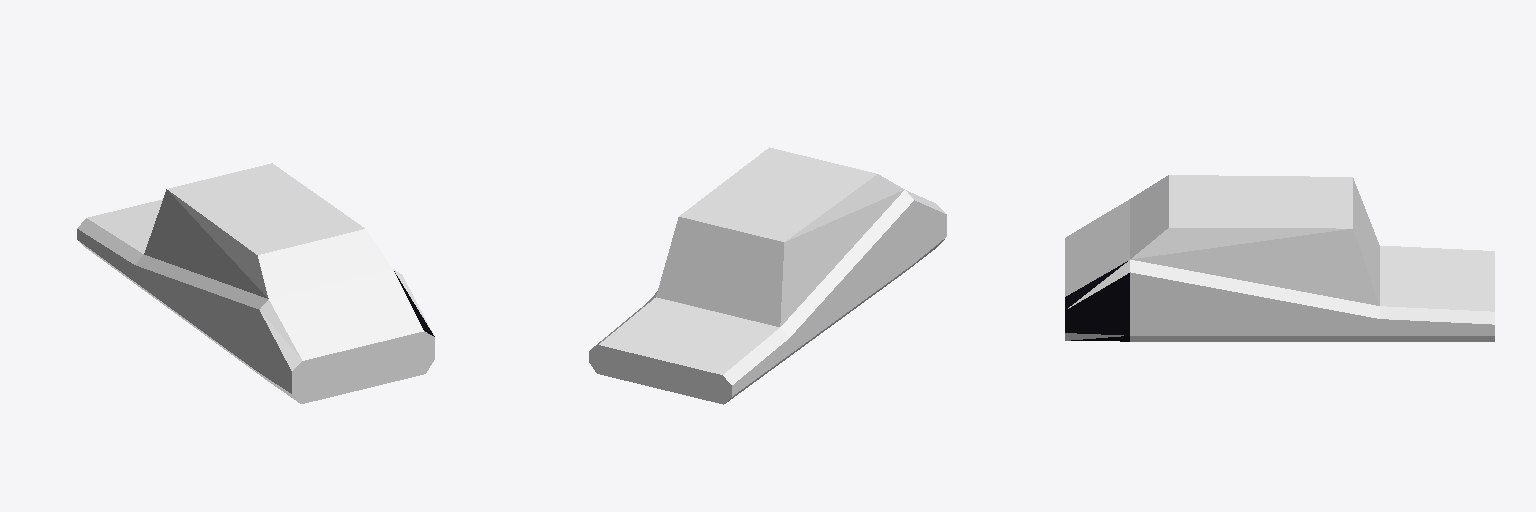
The model's file is vehicle_pickup_simple.obj.
The picture shows the model from 3 angles: view 1: azimuth 30°, elevation 25°; view 2: azimuth 150°, elevation 25°; view 3: azimuth 270°, elevation 25°; orthographic projection.
Bounding box in the file's own units: 2.15 × 1.57 × 5.6.